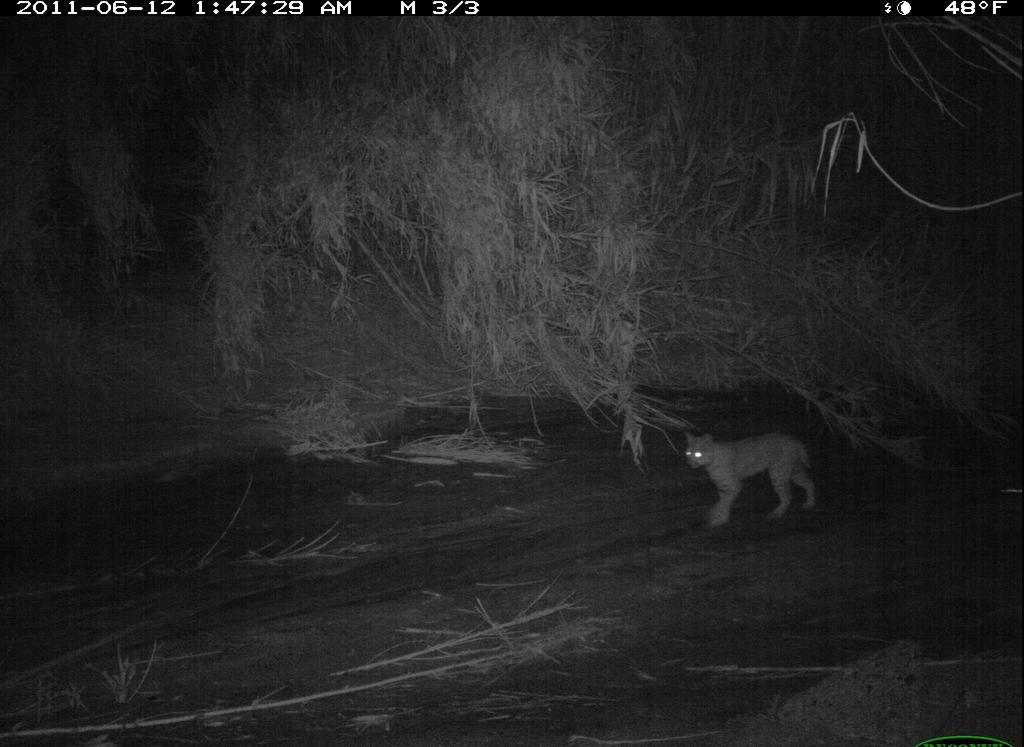bobcat: (671, 412, 829, 540)
